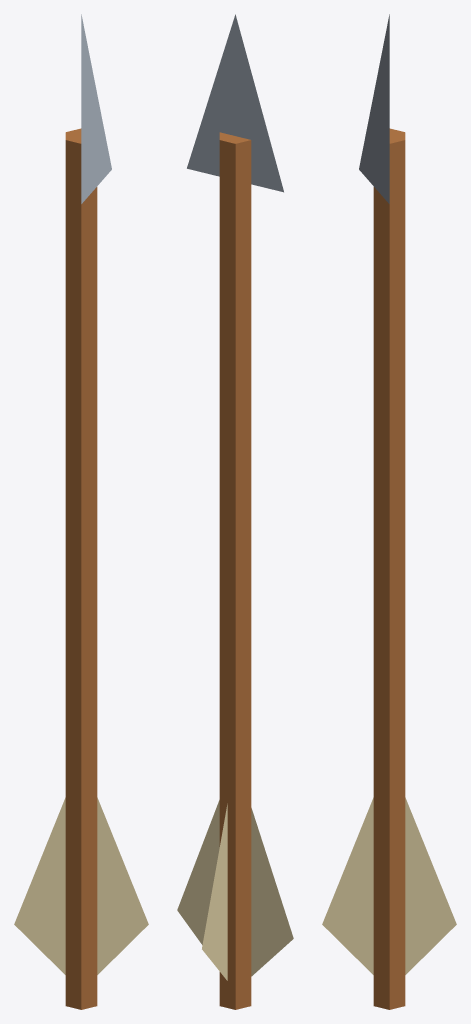
Rendered from kit_arrow.glb.
3 renders of one model, left to right at view 1: azimuth 90°, elevation 25°; view 2: azimuth 150°, elevation 25°; view 3: azimuth 270°, elevation 25°, orthographic.
Visible parts, largest first — view 1: Arrow shaft, Arrow feather.001, Arrow steel tip; view 2: Arrow shaft, Arrow steel tip, Arrow feather, Arrow feather.001; view 3: Arrow shaft, Arrow feather.001, Arrow steel tip.
Part boxes in pixels (x1,y1,x2,y2): Arrow shaft: [65, 128, 97, 1009]; Arrow feather.001: [14, 797, 148, 974]; Arrow steel tip: [81, 14, 111, 203]; Arrow shaft: [219, 132, 251, 1009]; Arrow steel tip: [187, 14, 283, 192]; Arrow feather: [177, 800, 293, 976]; Arrow feather.001: [202, 803, 227, 980]; Arrow shaft: [373, 128, 405, 1009]; Arrow feather.001: [322, 797, 456, 974]; Arrow steel tip: [359, 14, 389, 203].
Bounding box in the file's own units: 0.11 × 0.89 × 0.11.
